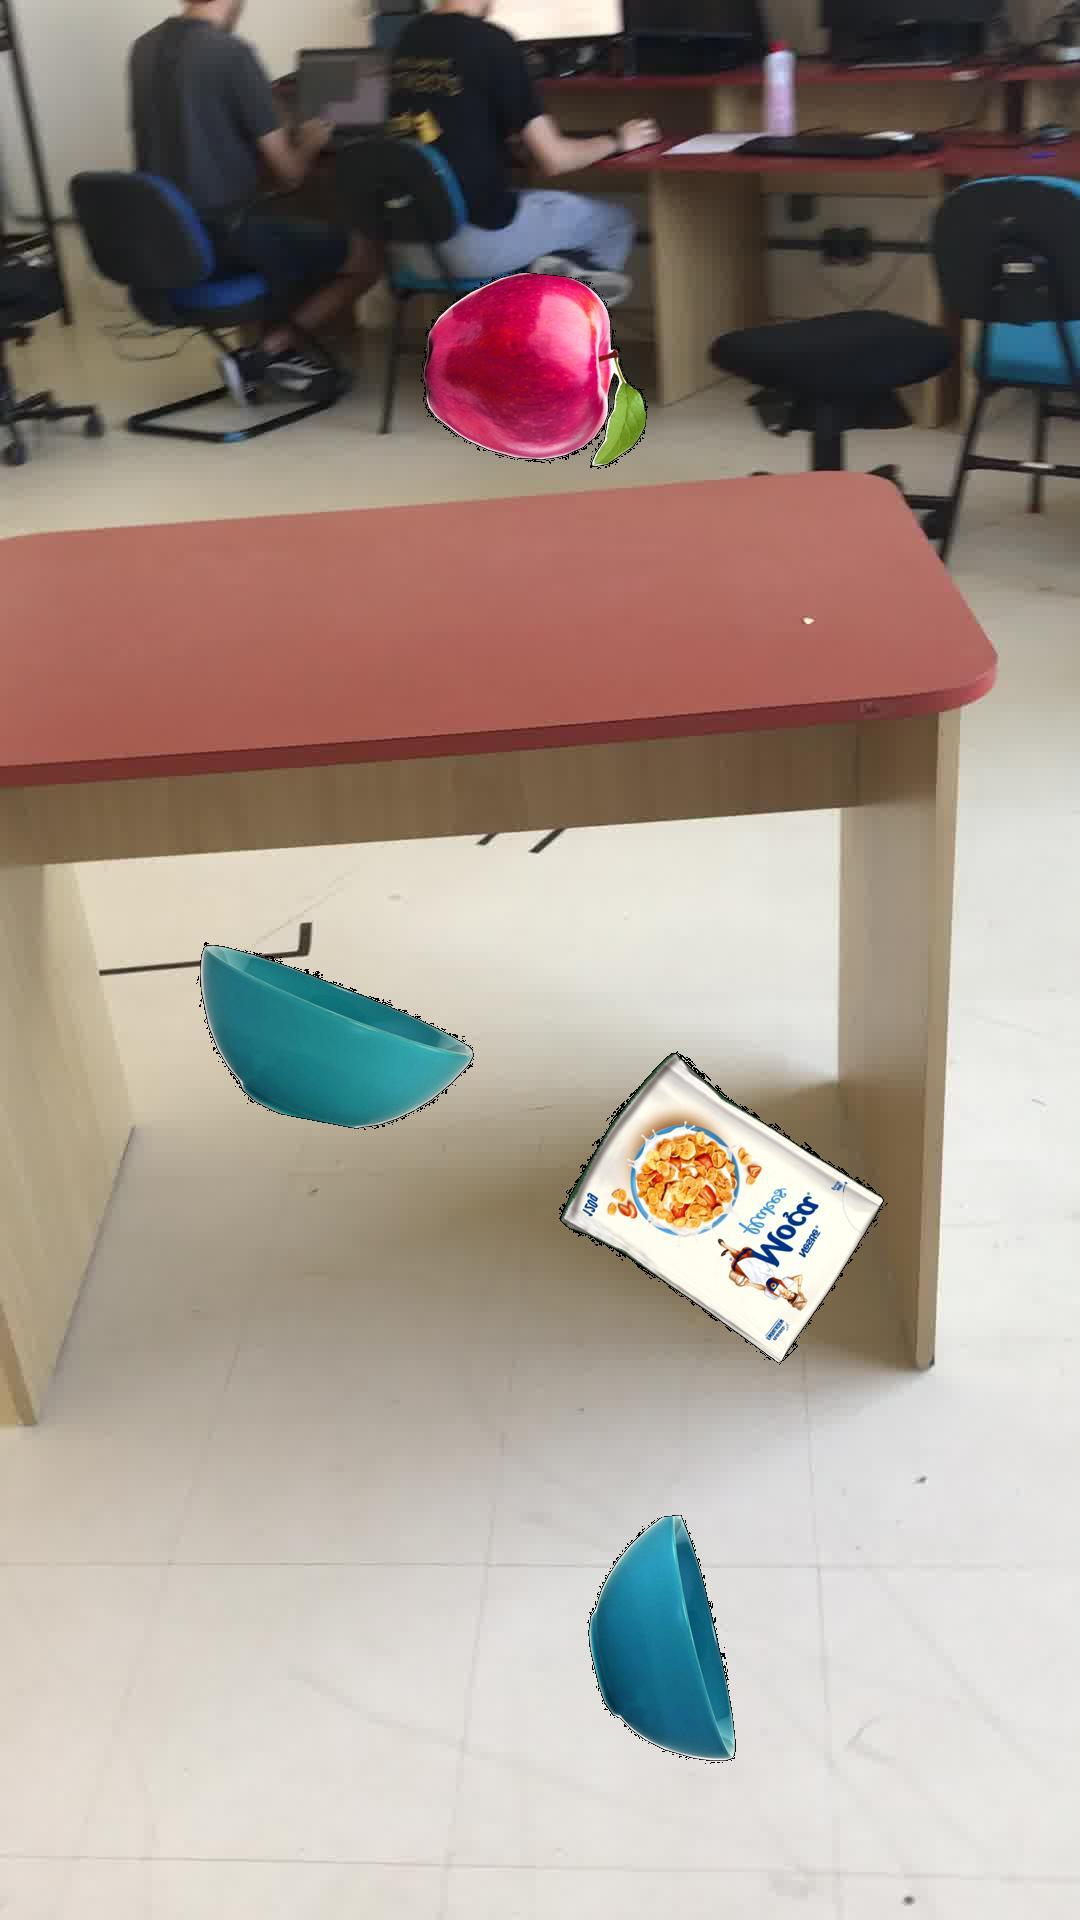apple: (418, 269, 646, 467)
bowl: (199, 940, 472, 1127), (587, 1514, 735, 1759)
corn flakes: (558, 1050, 882, 1361)
